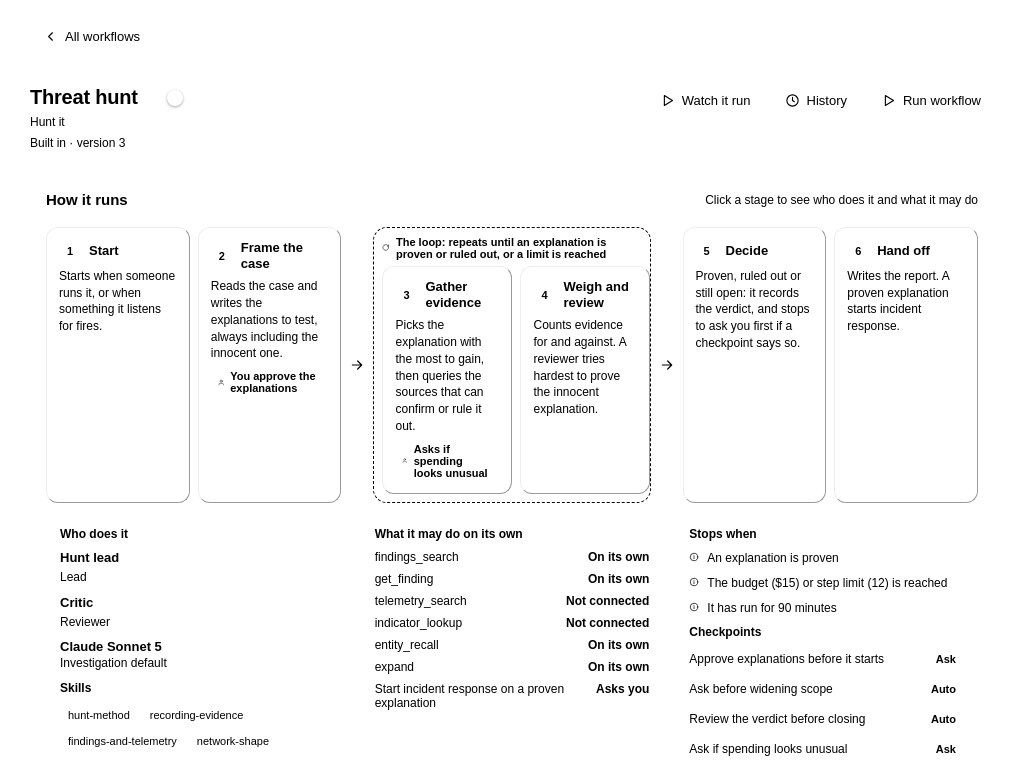
Test: the enable switch and header › opens the latest run from Watch it run, looked up on the click
Click the button "Watch it run" at (705, 100), box [647,85,764,116]
(page scrolled)
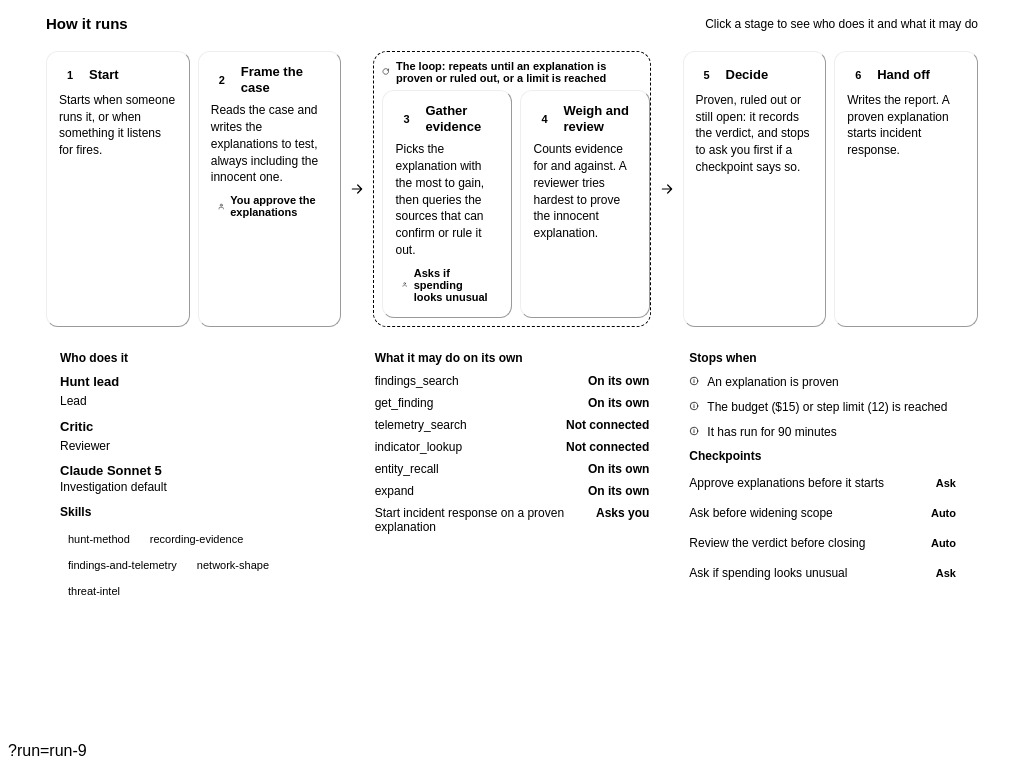
Expected: the text with test id "search" reads "?run=run-9", [8,742,87,759]
